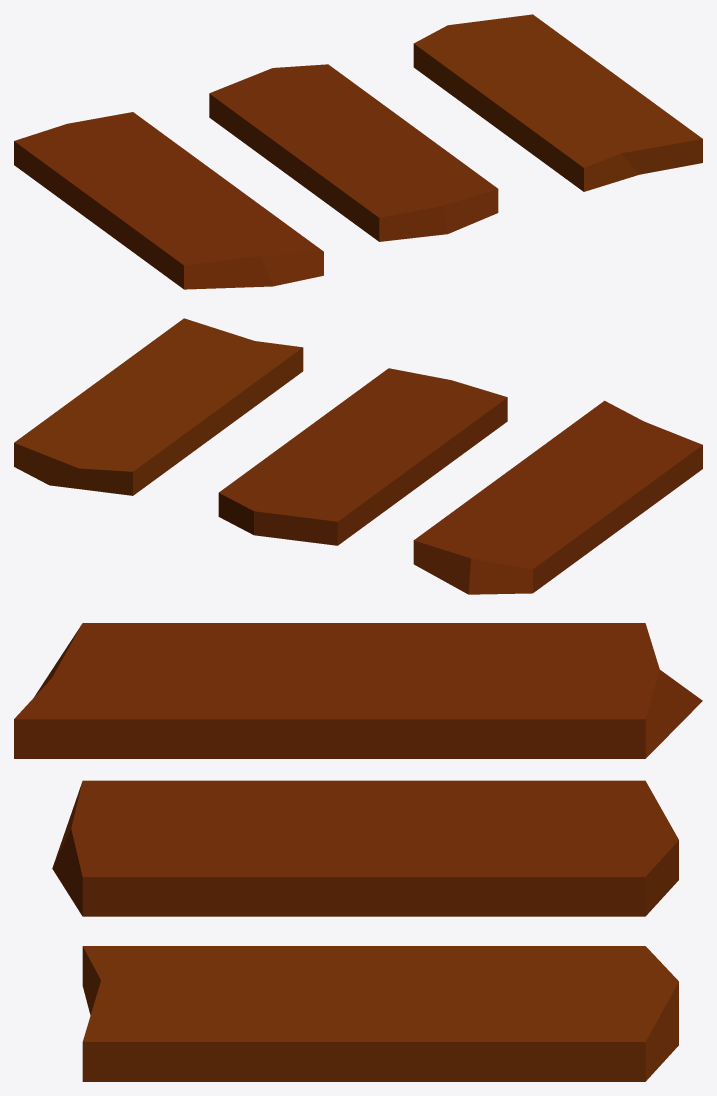
The model's file is chodnik 1.fbx.
The picture shows the model from 3 angles, top to bottom: view 1: azimuth 30°, elevation 25°; view 2: azimuth 150°, elevation 25°; view 3: azimuth 270°, elevation 25°; orthographic projection. The views are drawn at different scales.
Visible parts, largest first — view 1: Cube.002, Cube, Cube.001; view 2: Cube.002, Cube, Cube.001; view 3: Cube.002, Cube, Cube.001.
Boxes of the visible parts, <box> form: Cube.002: <box>14,112,323,289</box>; Cube: <box>209,64,498,241</box>; Cube.001: <box>413,14,702,191</box>; Cube.002: <box>413,400,702,594</box>; Cube: <box>218,368,507,545</box>; Cube.001: <box>14,318,303,495</box>; Cube.002: <box>14,623,702,758</box>; Cube: <box>52,780,678,916</box>; Cube.001: <box>82,946,678,1081</box>.
Size of the model in its own units: 489 by 21.69 by 340.
